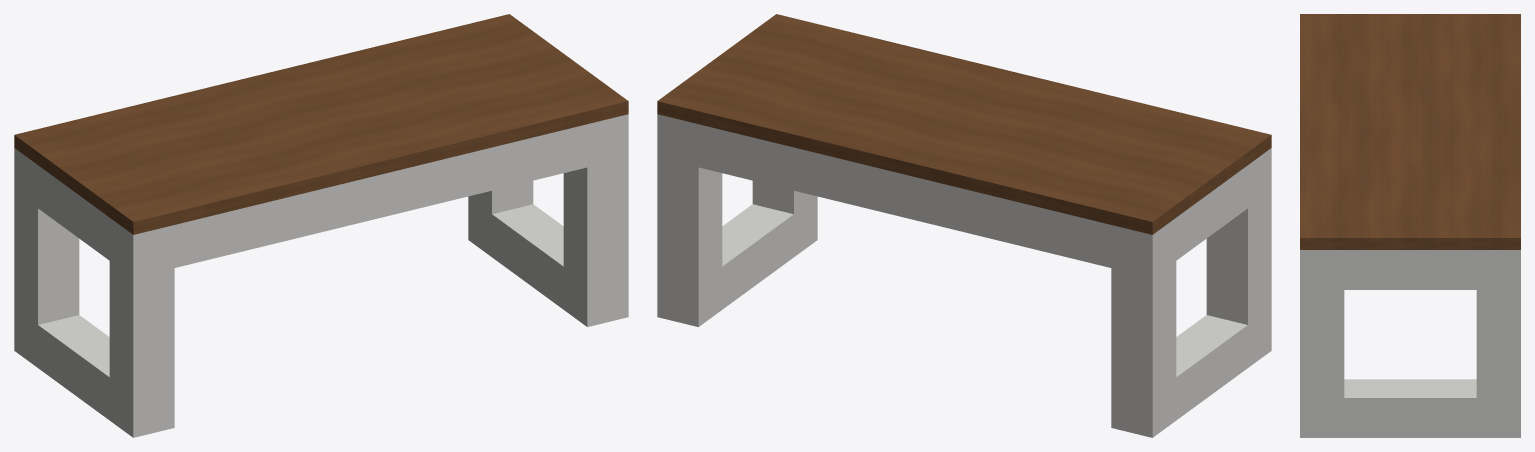
The model's file is mesa-living-nord-nogal-blanco-10cm.glb.
The picture shows the model from 3 angles, left to right: view 1: azimuth 30°, elevation 25°; view 2: azimuth 150°, elevation 25°; view 3: azimuth 270°, elevation 25°; orthographic projection. The views are drawn at different scales.
Parts seen in each view (by area): view 1: Tapa de madera maciza 120 x 50 cm, Pata recta de hierro 10 x 10 cm (×4), Larguero longitudinal superior recto, Travesaño inferior recto (×2), Travesaño superior recto; view 2: Tapa de madera maciza 120 x 50 cm, Pata recta de hierro 10 x 10 cm (×4), Larguero longitudinal superior recto, Travesaño inferior recto (×2), Travesaño superior recto; view 3: Tapa de madera maciza 120 x 50 cm, Pata recta de hierro 10 x 10 cm (×2), Travesaño inferior recto, Travesaño superior recto.
Part boxes in pixels (x1,y1,x2,y2): Tapa de madera maciza 120 x 50 cm: (14,14,628,234); Pata recta de hierro 10 x 10 cm (×4): (14,114,628,437); Larguero longitudinal superior recto: (174,124,587,267); Travesaño inferior recto (×2): (26,204,575,428); Travesaño superior recto: (26,158,121,269); Tapa de madera maciza 120 x 50 cm: (657,14,1271,234); Pata recta de hierro 10 x 10 cm (×4): (657,114,1271,437); Larguero longitudinal superior recto: (698,124,1111,267); Travesaño inferior recto (×2): (710,204,1247,428); Travesaño superior recto: (1164,165,1247,268); Tapa de madera maciza 120 x 50 cm: (1300,14,1520,249); Pata recta de hierro 10 x 10 cm (×2): (1300,250,1520,437); Travesaño inferior recto: (1323,379,1497,437); Travesaño superior recto: (1322,250,1498,289).
Bounding box in the file's own units: 1.2 × 0.5 × 0.5.
Materials: 2 (1 with a texture image).
